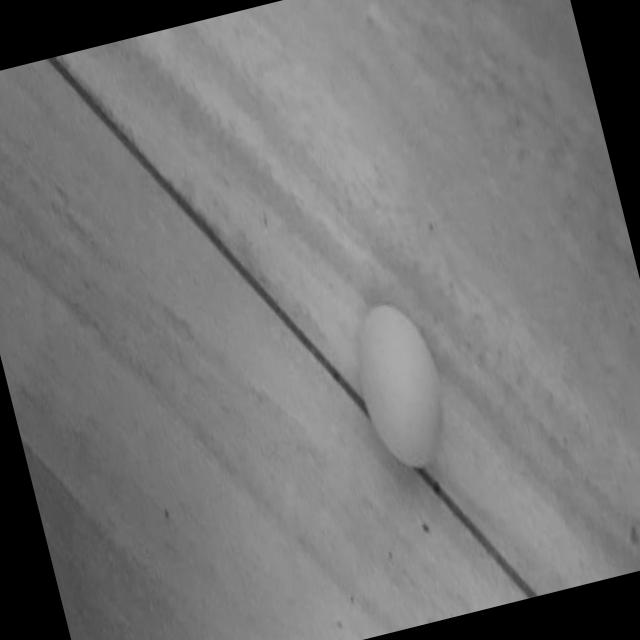ping-pong-ball: (344, 298, 456, 476)
